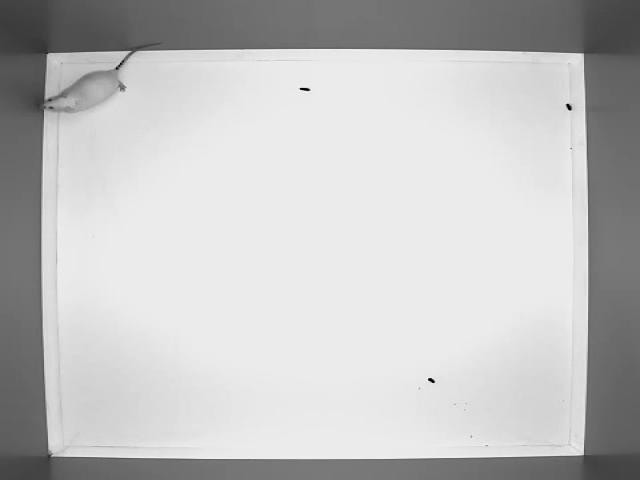Tikus: (43, 44, 164, 114)
